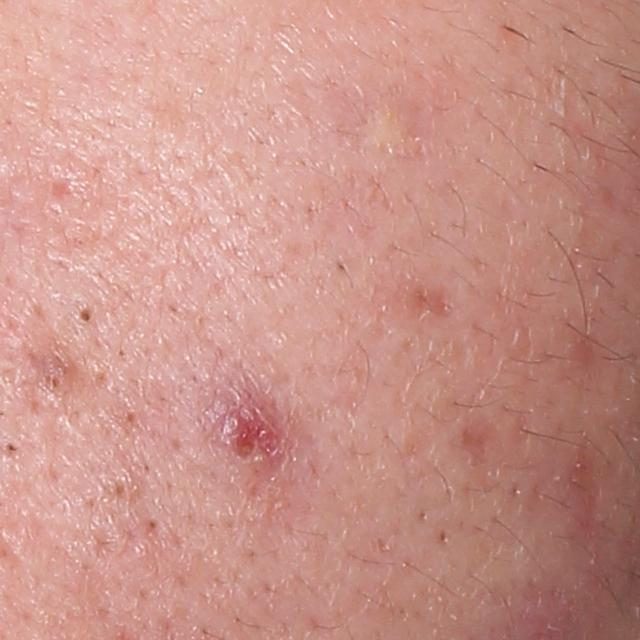comedo: (75, 301, 103, 326), (1, 439, 19, 457), (110, 480, 129, 496)
papule: (208, 401, 276, 460)
